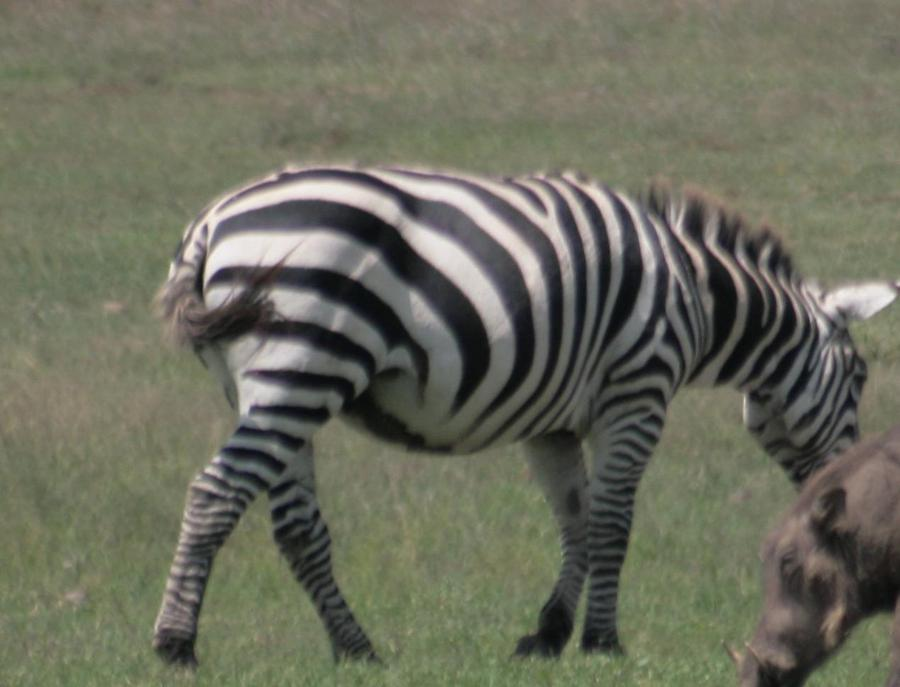zebra_plains: (185, 127, 720, 489)
